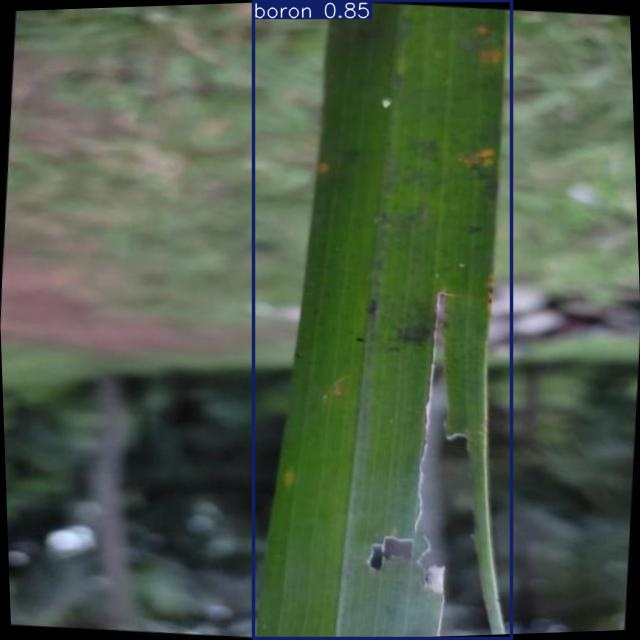nitrogen: (254, 0, 511, 639)
